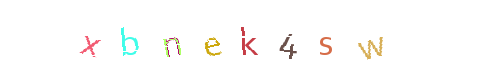4: (248, 0, 328, 80)
B: (131, 0, 211, 80)
E: (190, 0, 270, 80)
K: (200, 0, 280, 80)
N: (163, 0, 243, 80)
S: (249, 0, 329, 80)
W: (259, 0, 339, 80)
X: (88, 0, 168, 80)
